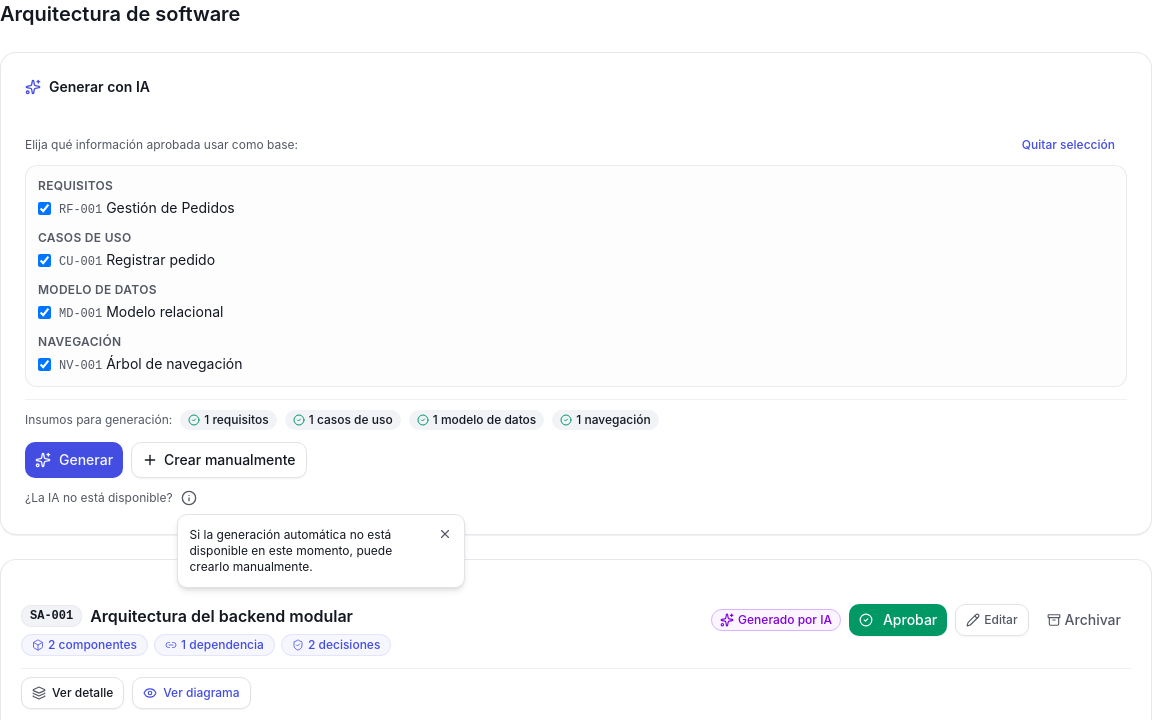
SoftwareArchitecturePage › toggles software architecture diagram viewer
Click the button "Ver diagrama": (191, 693) [132,677,251,709]
(page scrolled)
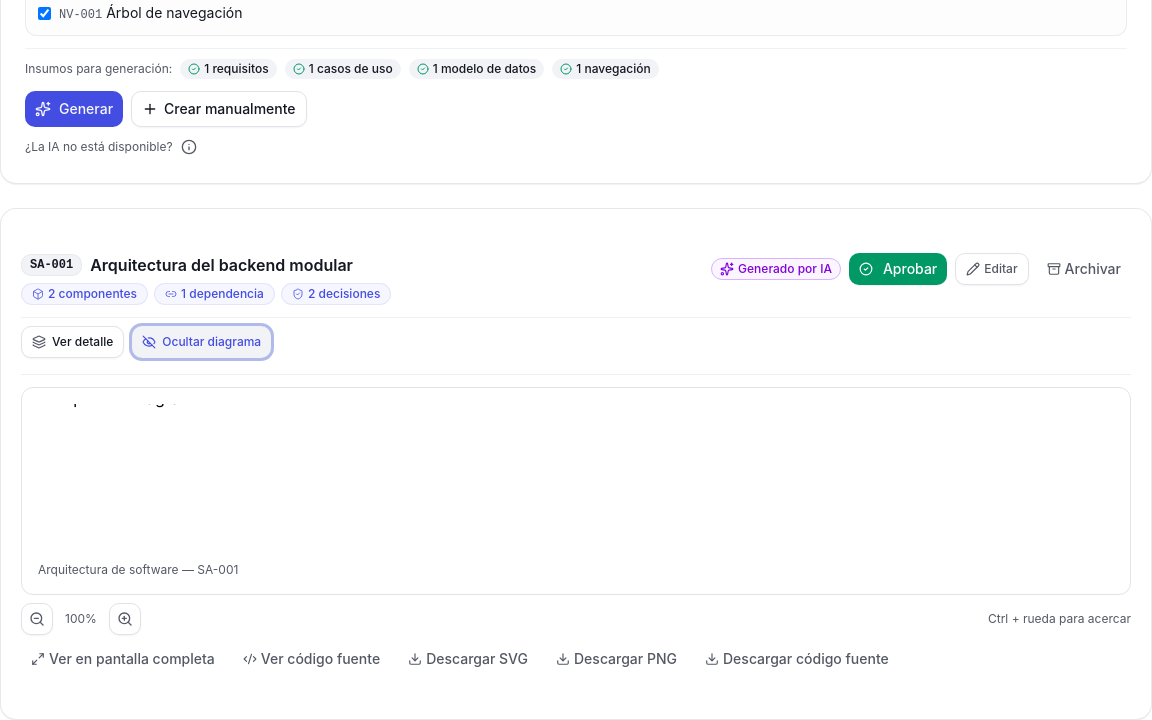
Expected: the button "Ver en pantalla completa" is shown, [21,643,225,675]
